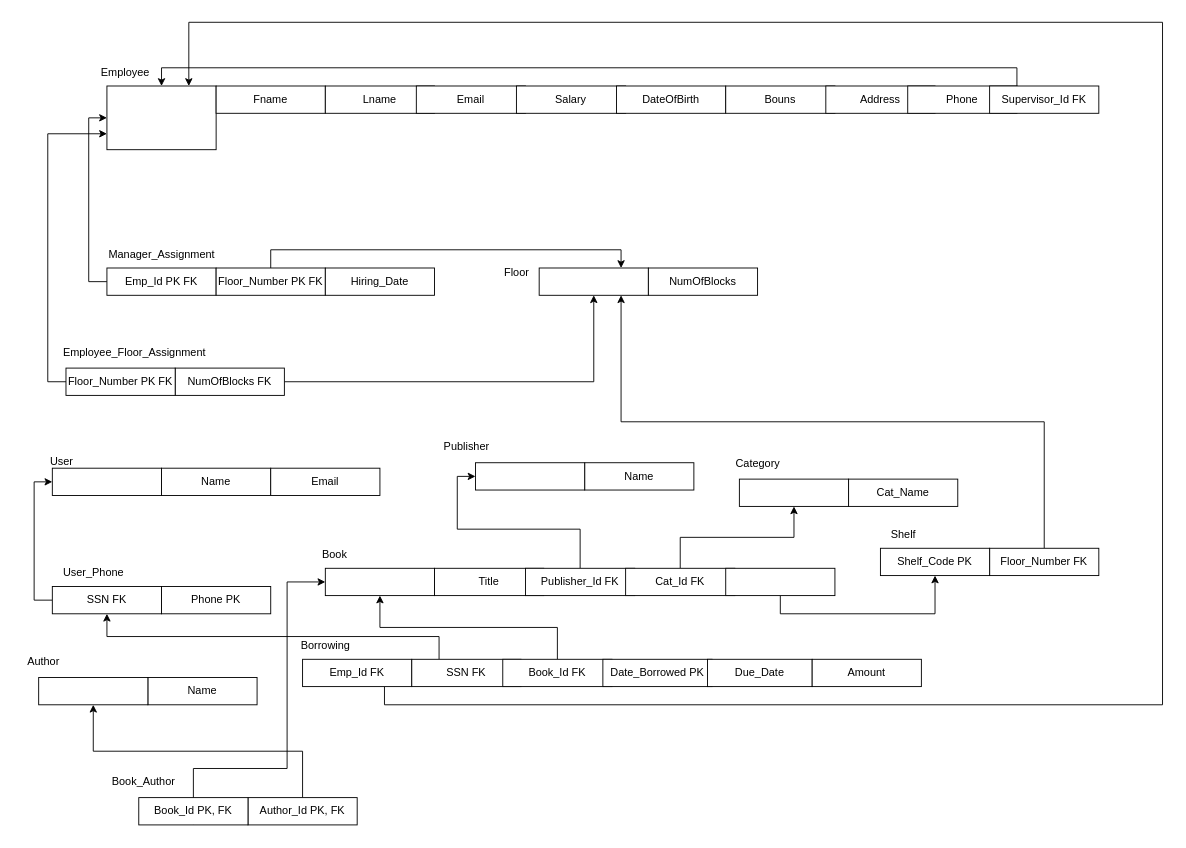
Image size: 1186x848. Some labels were removed from this diagram. Each missing label, with the centre of its shape:
"Author_Id PK" belongs at [93,691].
"Book_Id PK" belongs at [379,581].
"Cat_Id PK" belongs at [793,492].
"Emp_Id PK" belongs at [161,117].
"Floor_Number PK" belongs at [593,281].
"Publisher_Id PK" belongs at [530,476].
"Shelf_Code FK" belongs at [780,581].
"SSN PK" belongs at [106,481].
